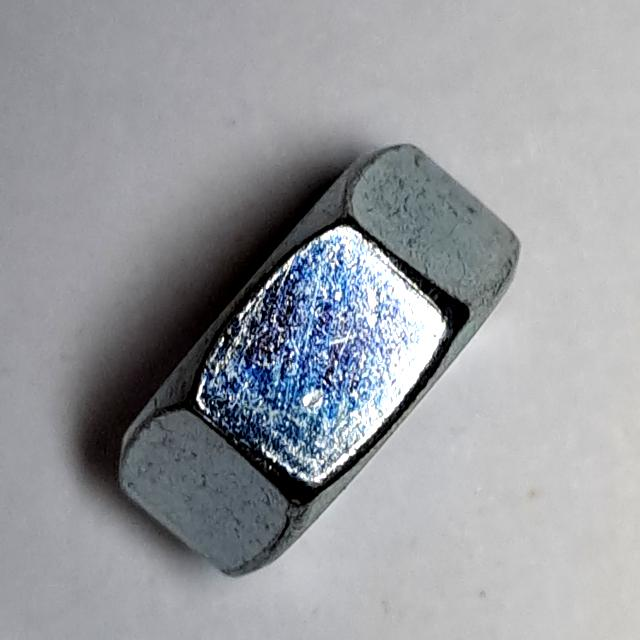Side_Excellent: (104, 119, 539, 612)
